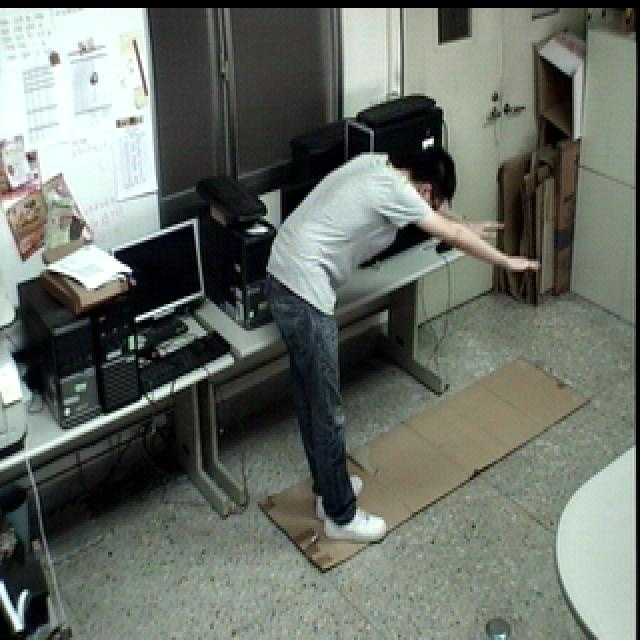bend: (256, 138, 547, 546)
